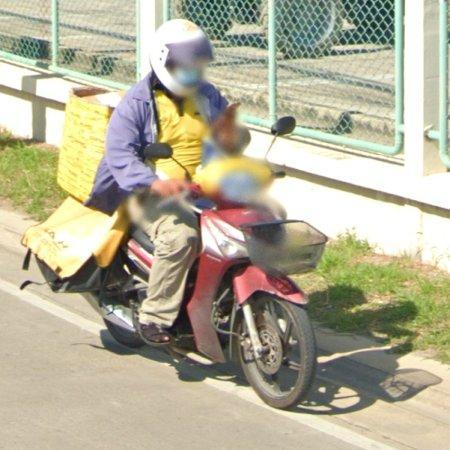motorcycles: (171, 155, 328, 410), (37, 227, 154, 347)
